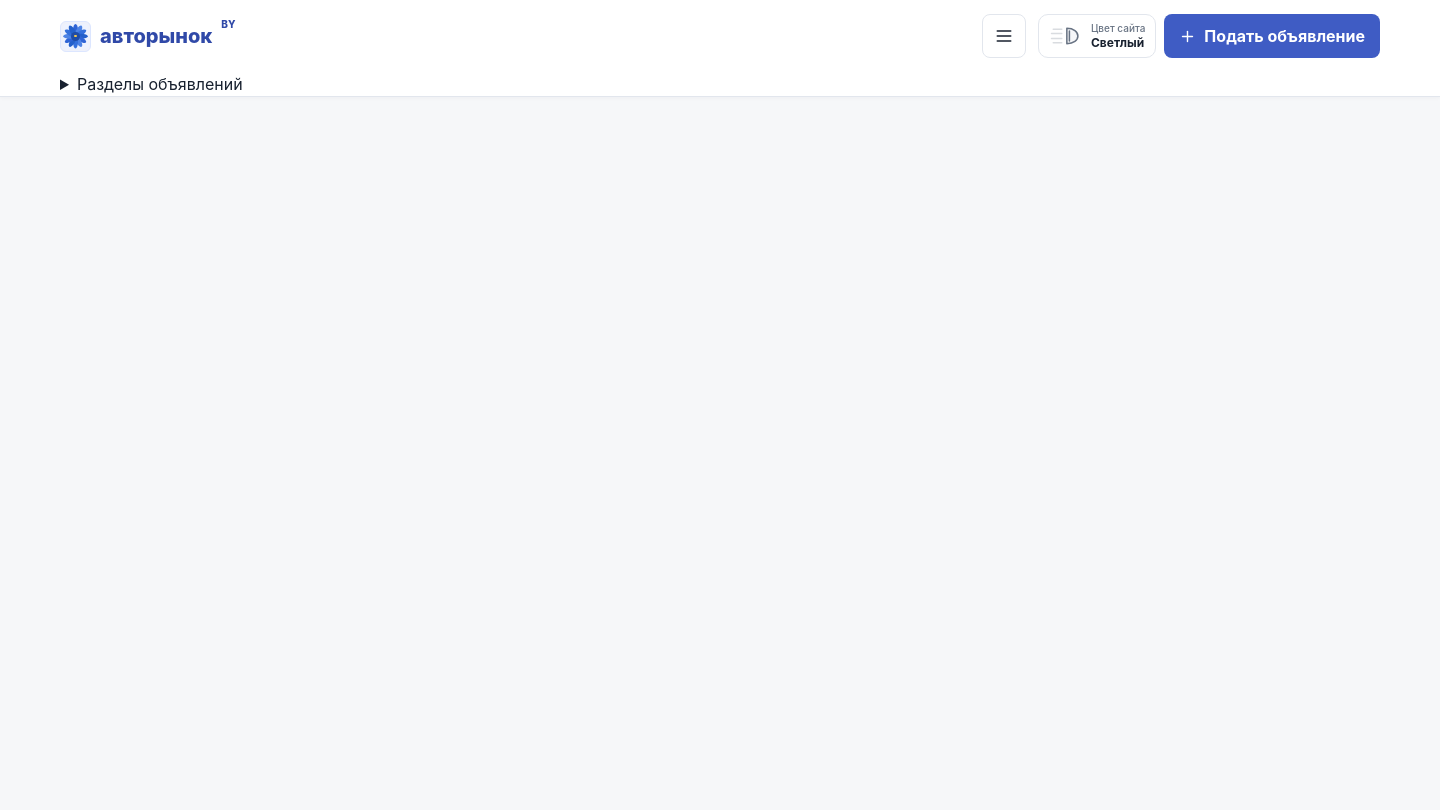
moderation navigation › keeps moderator routes available from its compact navigation
Click the button with class "mobile-menu-toggle": [1004, 36] box [982,14,1026,58]
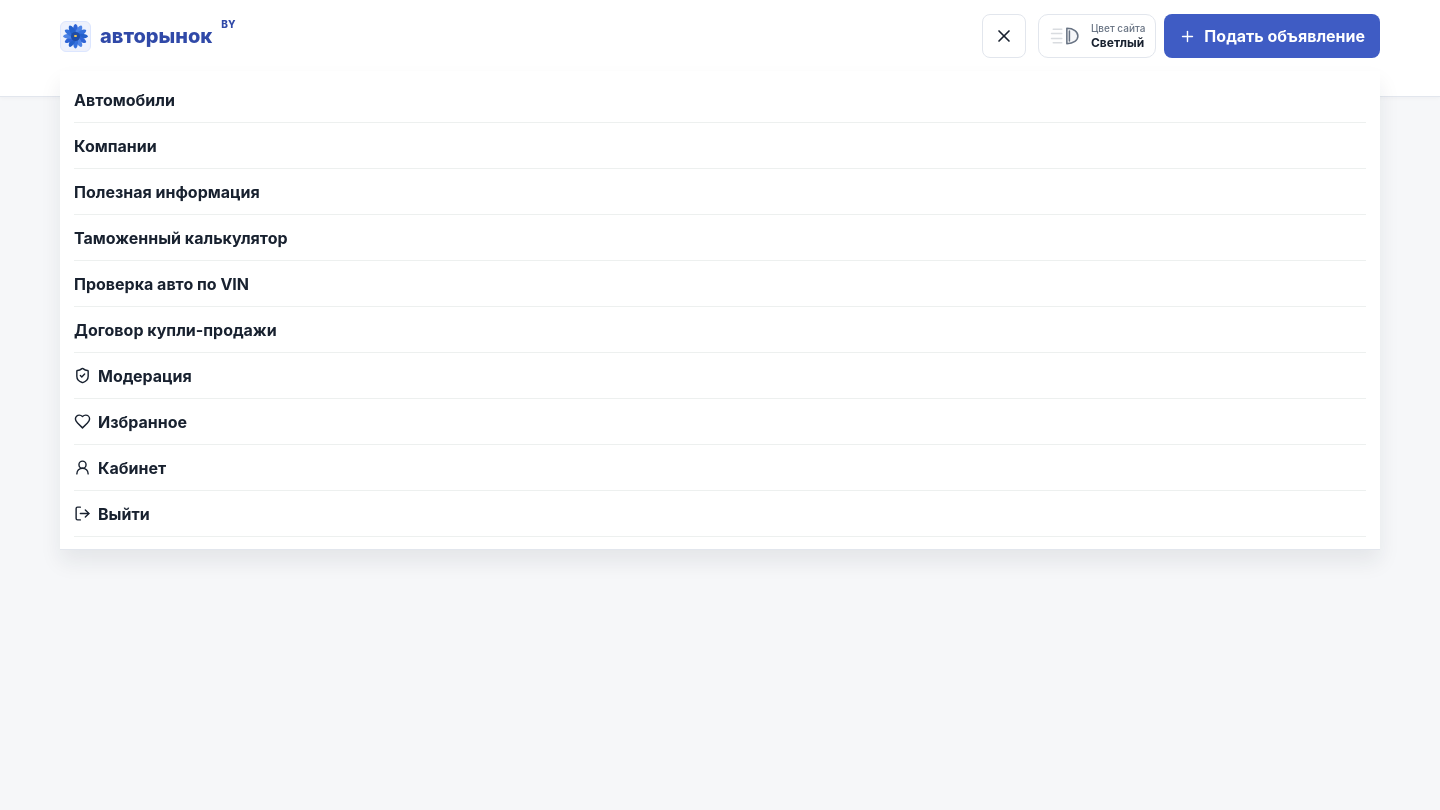
Expected: the button with class "mobile-menu-toggle" is expanded, [982,14,1026,58]
Expected: the link to "/moderation" is shown, [74,353,1366,399]
